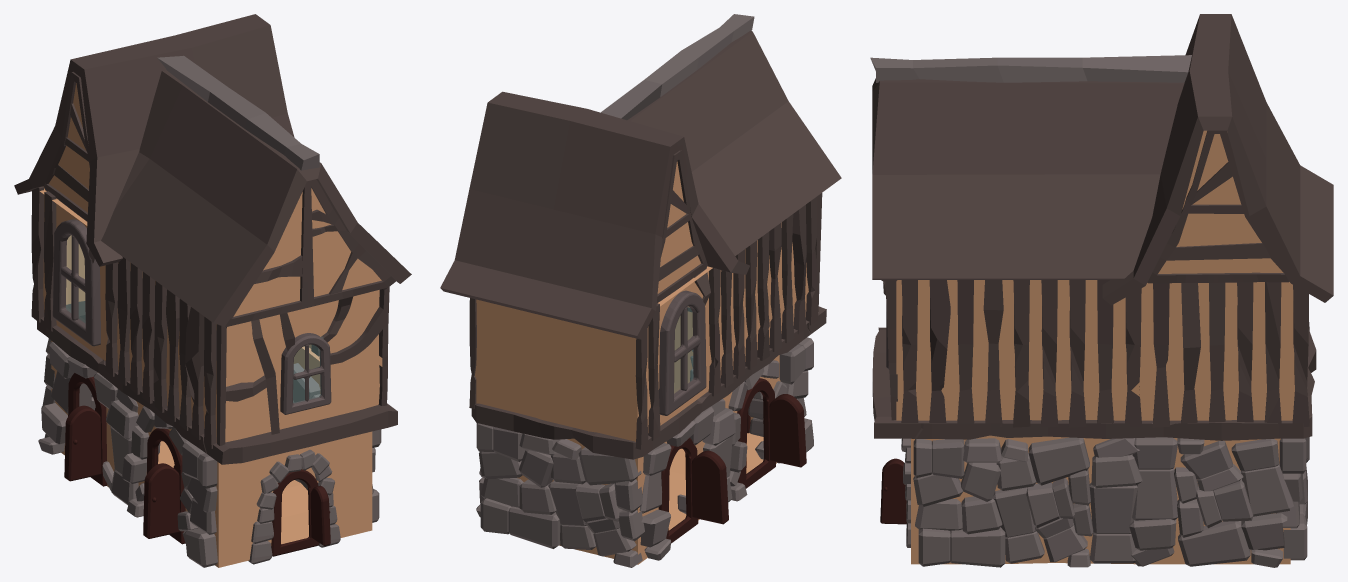
The model's file is FantasyMedivalBuilding1.fbx.
3 views of the same model, side by side, from view 1: azimuth 30°, elevation 25°; view 2: azimuth 150°, elevation 25°; view 3: azimuth 270°, elevation 25° (orthographic). The views are drawn at different scales.
Parts seen in each view (by area): view 1: Building_1, Roof.006, Roof.003, Wood Frame.004, Side Rocks.003, Wood Frame.005, Wood Frame.006, Windows.003, Roof.005, Door.004, Windows.004, Door.003 (+4 smaller); view 2: Roof.003, Building_1, Roof.006, Back Rocks.003, Wood Frame.004, Side Rocks.003, Wood Frame.006, Windows.003, Door.003, Roof.005, Door.004, Wood Frame.003 (+1 smaller); view 3: Roof.006, Side Rocks.003, Building_1, Wood Frame.004, Roof.003, Wood Frame.006, Roof.005, Wood Frame.003, Back Rocks.003, Door.005, Wood Frame.005, Front Rocks.001.
Part boxes in pixels (bbox=[...]): Building_1: bbox=[39, 83, 382, 567]; Roof.006: bbox=[101, 70, 411, 326]; Roof.003: bbox=[14, 14, 294, 266]; Wood Frame.004: bbox=[31, 186, 319, 448]; Side Rocks.003: bbox=[38, 341, 381, 567]; Wood Frame.005: bbox=[216, 179, 395, 445]; Wood Frame.006: bbox=[37, 301, 397, 464]; Windows.003: bbox=[52, 219, 100, 346]; Roof.005: bbox=[157, 55, 319, 170]; Door.004: bbox=[64, 373, 107, 486]; Windows.004: bbox=[280, 333, 331, 414]; Door.003: bbox=[143, 428, 185, 544]; Roof.003: bbox=[440, 91, 749, 339]; Building_1: bbox=[475, 161, 808, 564]; Roof.006: bbox=[627, 31, 841, 255]; Back Rocks.003: bbox=[476, 423, 644, 567]; Wood Frame.004: bbox=[469, 196, 818, 449]; Side Rocks.003: bbox=[476, 337, 813, 560]; Wood Frame.006: bbox=[471, 306, 826, 459]; Windows.003: bbox=[659, 290, 706, 415]; Door.003: bbox=[737, 378, 806, 488]; Roof.005: bbox=[601, 14, 754, 120]; Door.004: bbox=[658, 437, 728, 543]; Wood Frame.003: bbox=[657, 150, 710, 305]; Roof.006: bbox=[872, 78, 1184, 279]; Side Rocks.003: bbox=[913, 437, 1294, 567]; Building_1: bbox=[896, 130, 1294, 564]; Wood Frame.004: bbox=[901, 280, 1309, 427]; Roof.003: bbox=[1102, 14, 1333, 305]; Wood Frame.006: bbox=[872, 327, 1316, 440]; Roof.005: bbox=[870, 55, 1191, 82]; Wood Frame.003: bbox=[1147, 130, 1289, 283]; Back Rocks.003: bbox=[1276, 437, 1309, 560]; Door.005: bbox=[880, 458, 906, 524]; Wood Frame.005: bbox=[881, 280, 897, 420]; Front Rocks.001: bbox=[901, 438, 910, 547].
Bounding box in the file's own units: 3309 × 5792 × 5227.
